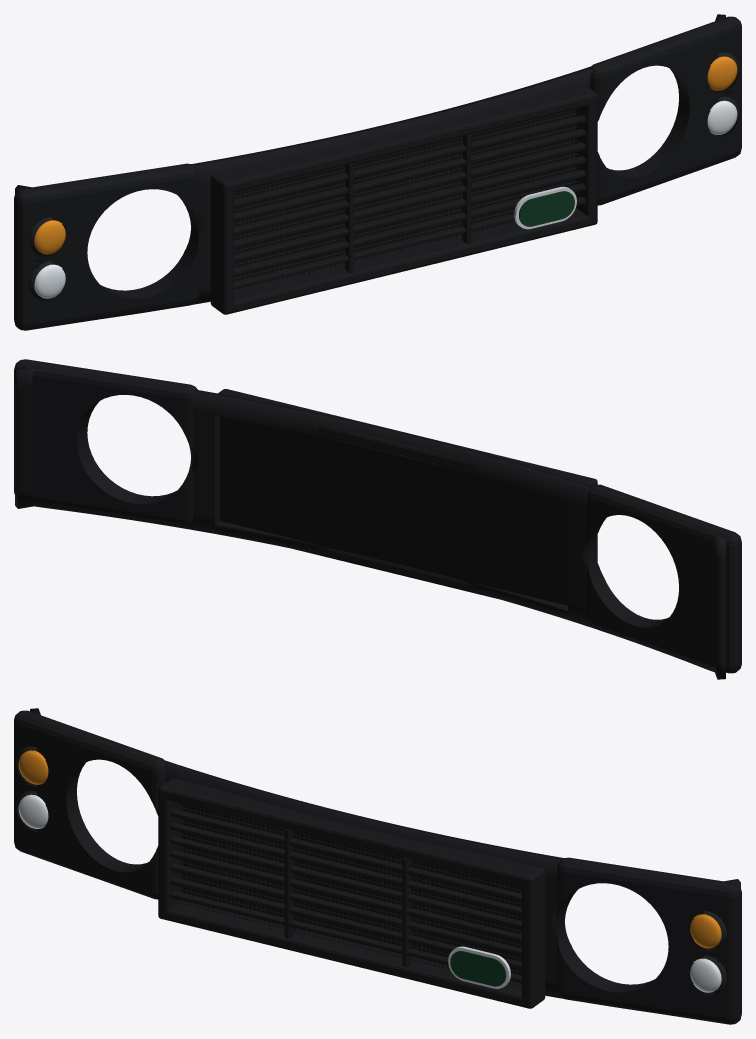
The model's file is grille_damd_little_d.glb.
3 renders of one model, top to bottom at view 1: azimuth 30°, elevation 25°; view 2: azimuth 150°, elevation 25°; view 3: azimuth 330°, elevation 25°, orthographic.
Visible parts, largest first — view 1: pod-1.002, pod1.002, backing.005, frame0, frame1.002, panel.006, frame3, bar5, bar7, bar6, bar4, bar3 (+17 smaller); view 2: backing.005, panel.006, pod1.002, pod-1.002, frame0, frame1.002; view 3: pod1.002, pod-1.002, backing.005, frame0, frame1.002, panel.006, frame2, bar5, bar7, bar4, bar3, bar6 (+17 smaller).
Boxes of the visible parts, x1,y1,x2,y2 form: pod-1.002: (14,163,198,330); pod1.002: (589,16,741,205); backing.005: (234,110,573,281); frame0: (211,84,597,192); frame1.002: (224,208,597,314); panel.006: (15,14,725,324); frame3: (210,173,233,314); bar5: (234,142,585,234); bar7: (234,115,585,207); bar6: (234,128,585,220); bar4: (234,156,585,248); bar3: (234,169,585,261); backing.005: (220,417,567,605); panel.006: (15,367,725,679); pod1.002: (14,359,197,525); pod-1.002: (587,484,741,673); frame0: (219,389,597,484); frame1.002: (220,521,567,606); pod1.002: (557,857,741,1024); pod-1.002: (14,710,166,899); backing.005: (182,804,520,975); frame0: (158,778,544,886); frame1.002: (158,900,544,1008); panel.006: (30,708,740,1018); frame2: (522,867,545,1008); bar5: (170,836,521,928); bar7: (170,809,521,901); bar4: (170,850,521,942); bar3: (170,863,521,955); bar6: (170,822,521,914).
Size of the model in its own units: 1.34 by 0.251 by 0.1435.
